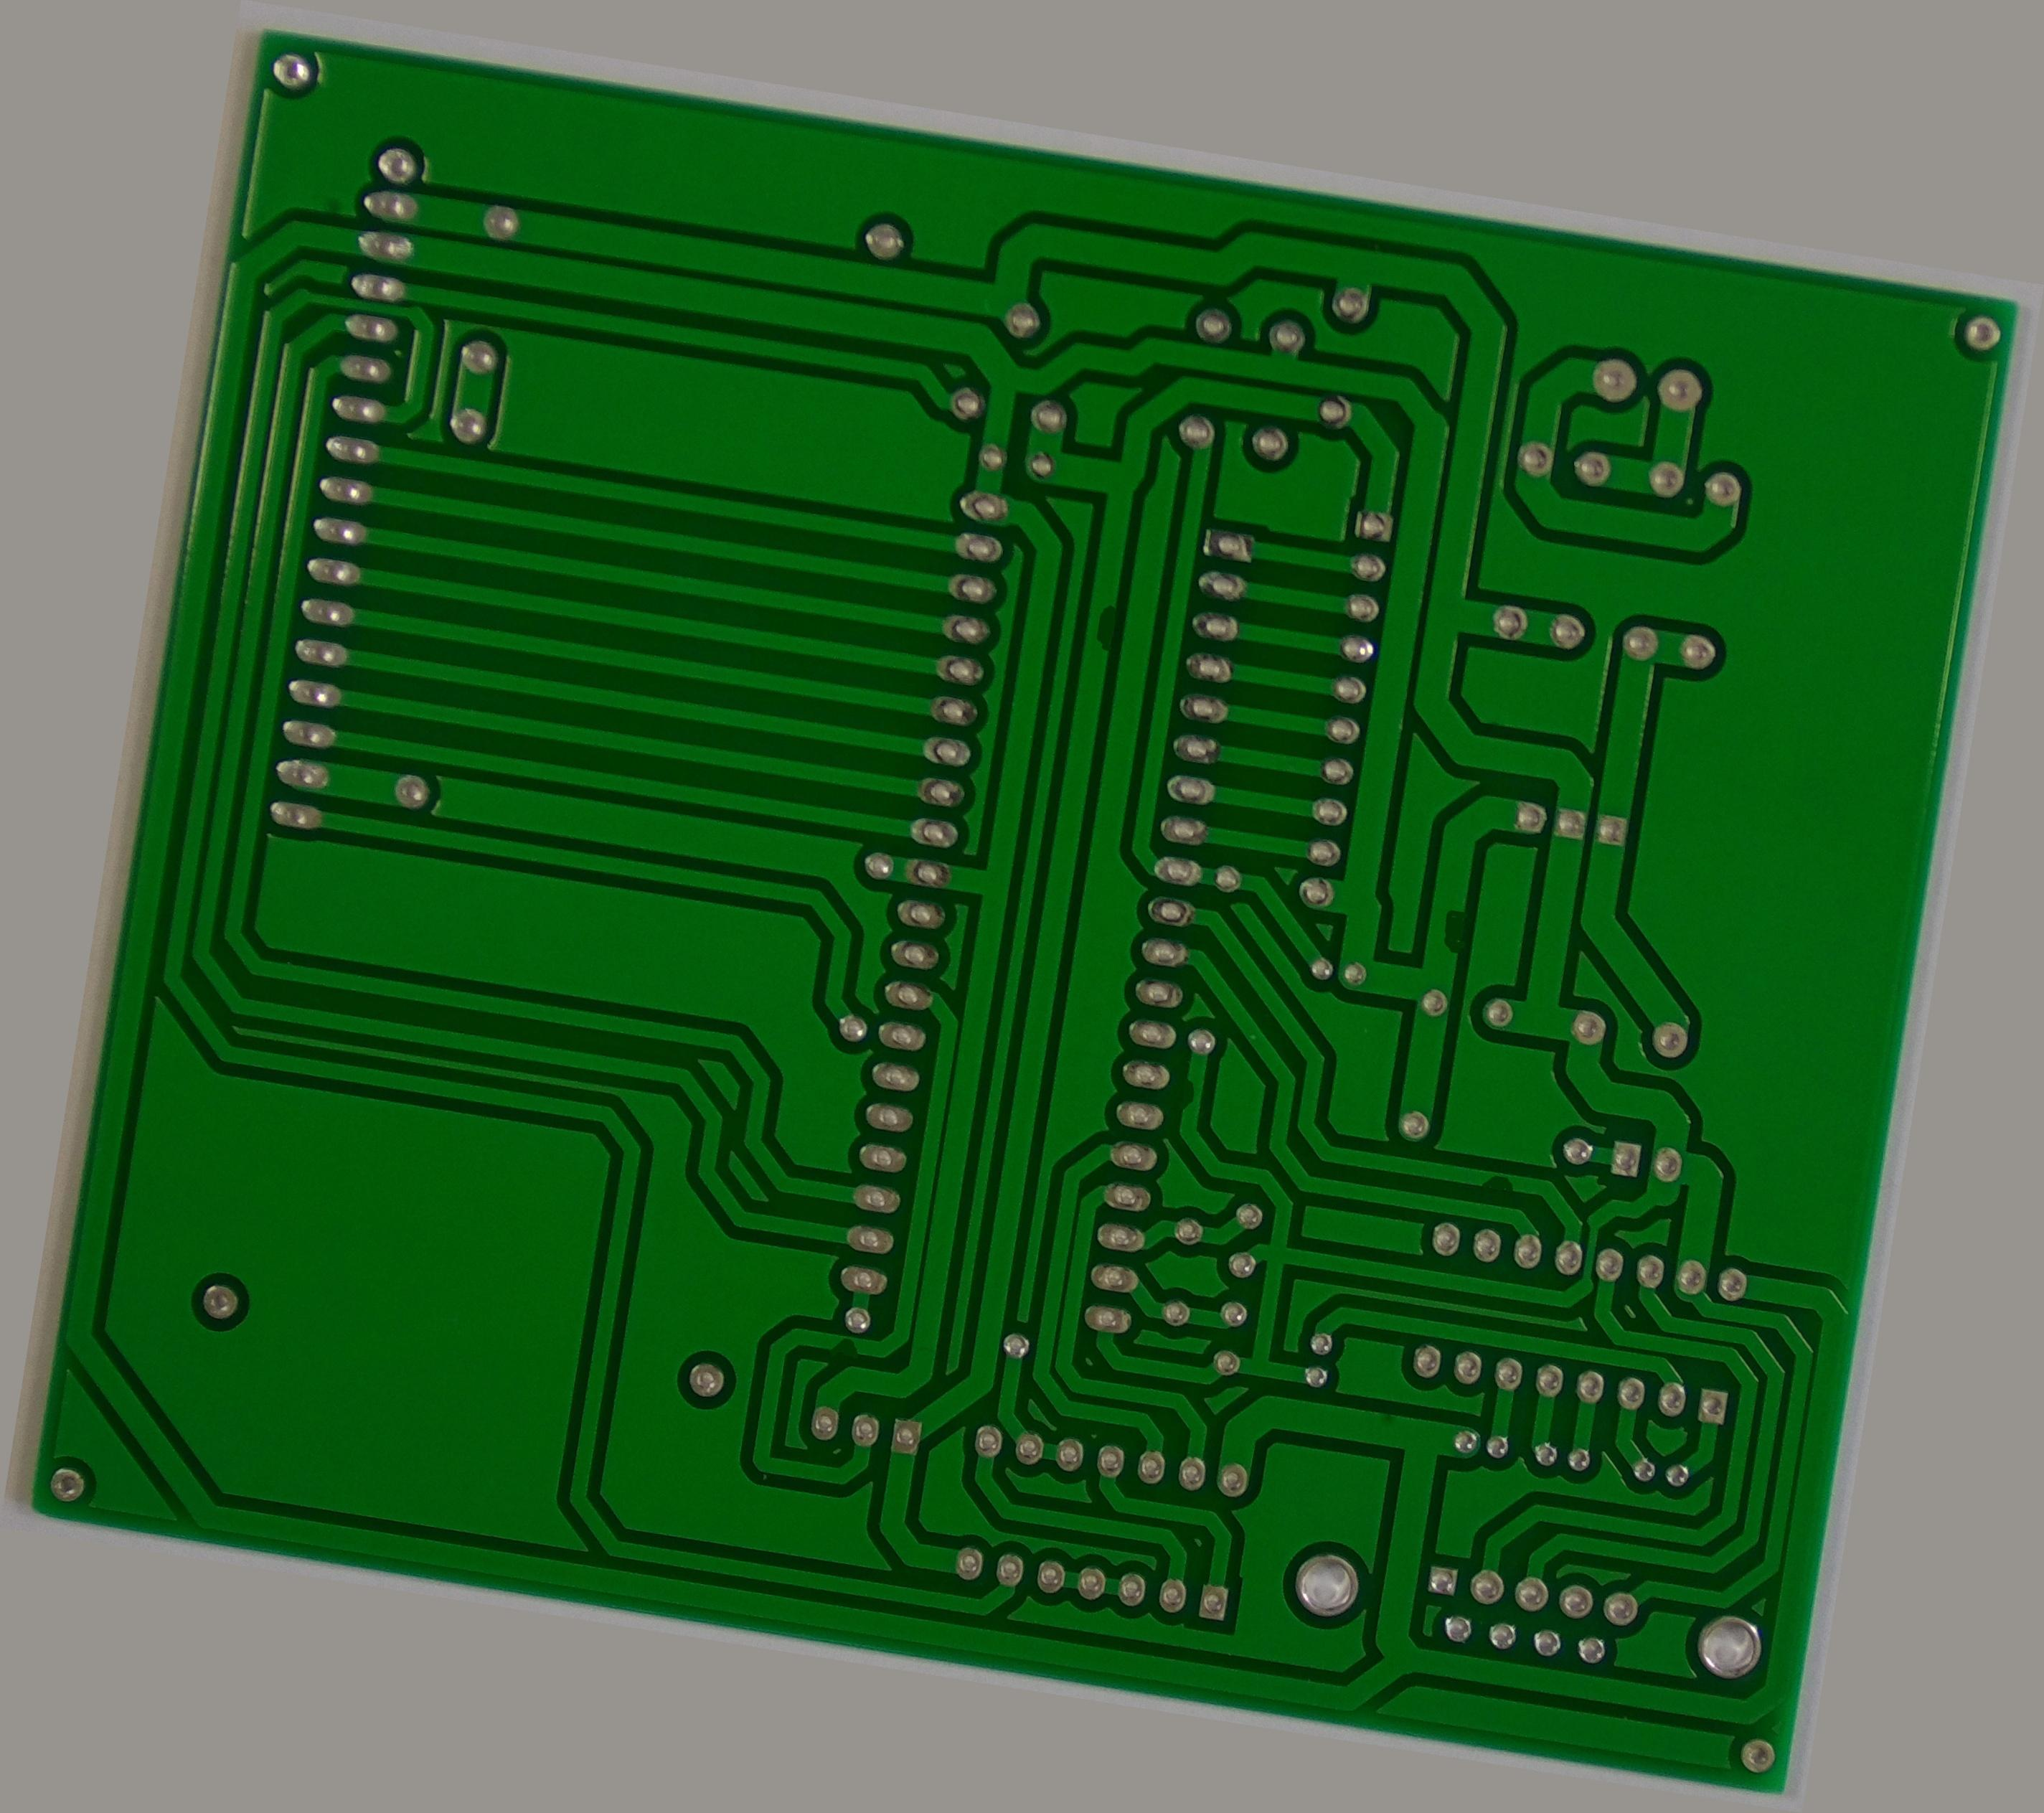mouse_bite: (1036, 530, 1083, 612), (1475, 815, 1521, 892), (1561, 1120, 1631, 1158), (877, 1426, 933, 1468), (1223, 1064, 1255, 1122)
